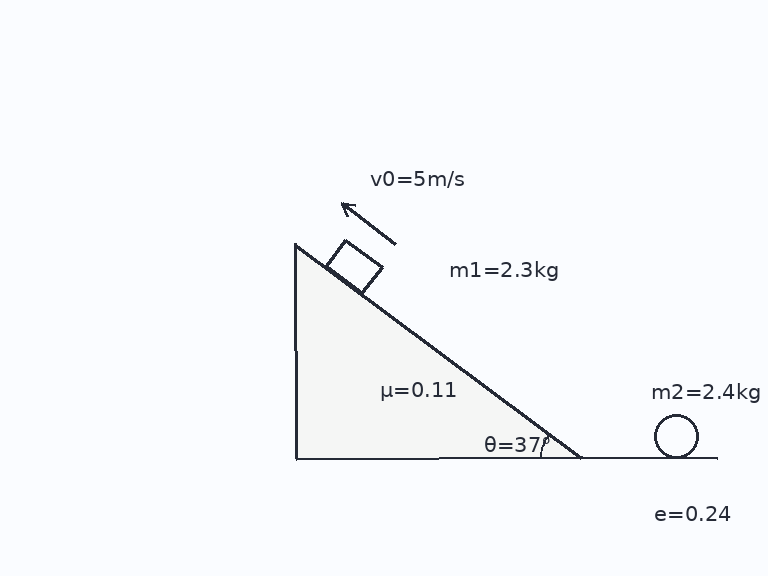ball: (652, 412, 700, 460)
block: (325, 238, 383, 295)
ramp: (293, 241, 583, 460)
